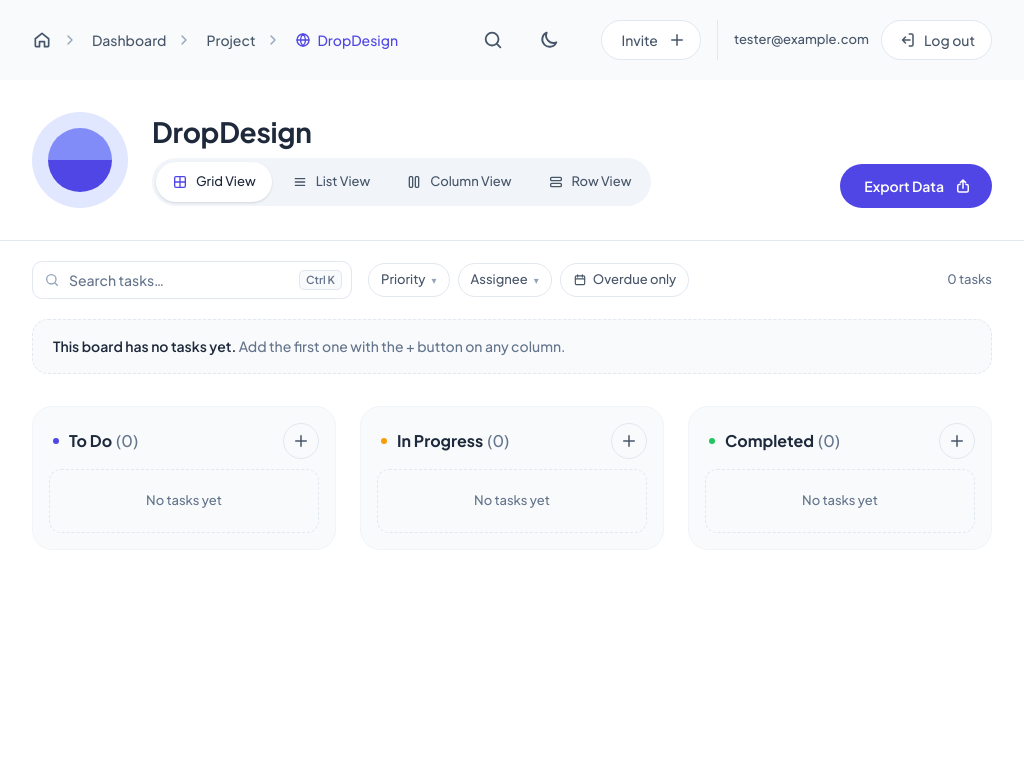
Test case: BoardScreen views › explains an empty board, in the board views and the List view
Expected: the element named "Board views" is shown, [152, 158, 651, 206]
Expected: the text "This board has no tasks yet." is shown, [53, 337, 236, 355]
What coordinates should you click on to do the following:
click the tab "List View"
I would click on:
 (331, 182)
Its box is [276, 162, 386, 202].
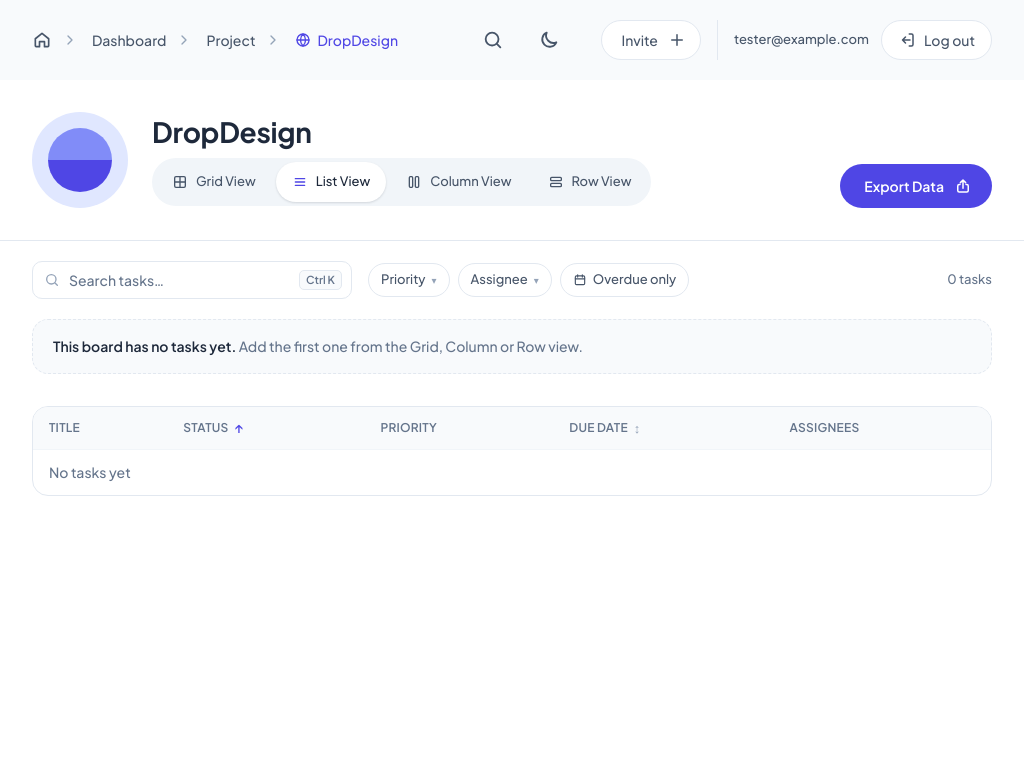
Expected: the text "No tasks yet" is shown, [33, 450, 991, 495]
Expected: the text "from the Grid, Column or Row view" is shown, [239, 337, 583, 355]
